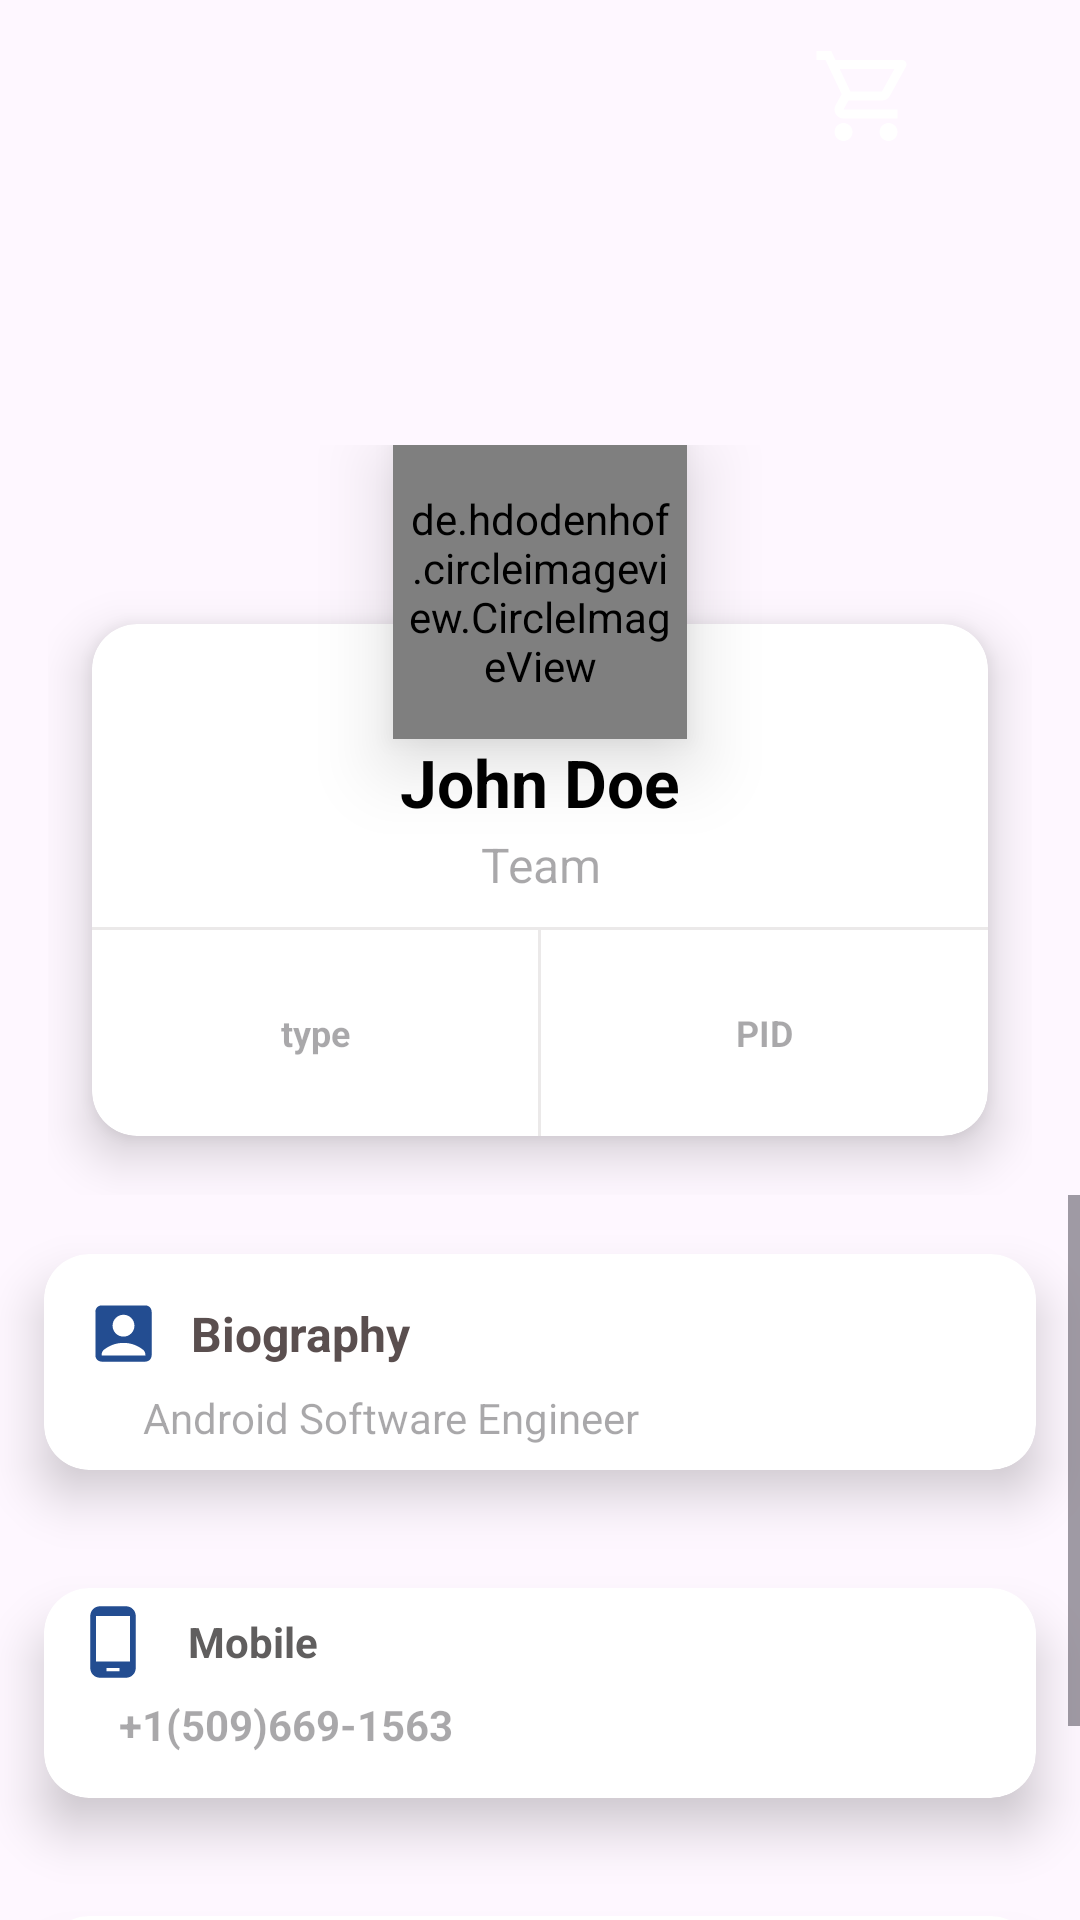

Point at icon controls on the screen. Image size 1080x1920, points as (x=x, y=y).
phone: (x=113, y=1642)
profile: (x=123, y=1333)
